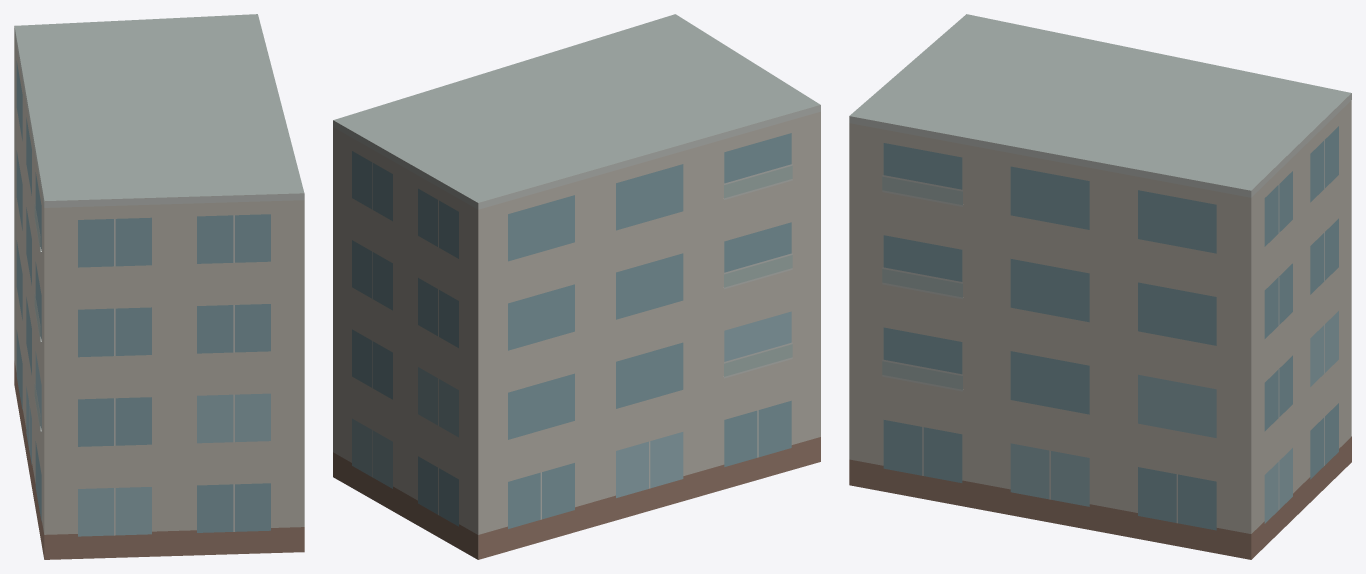
File: survey-upis-32811156.glb
3 views of the same model, side by side, from view 1: azimuth 30°, elevation 25°; view 2: azimuth 150°, elevation 25°; view 3: azimuth 270°, elevation 25° (orthographic). The views are drawn at different scales.
Visible parts, largest first — view 1: survey-upis-32811156.tmp; view 2: survey-upis-32811156.tmp; view 3: survey-upis-32811156.tmp.
Part boxes in pixels (x1,y1,x2,y2): survey-upis-32811156.tmp: [14, 14, 304, 559]; survey-upis-32811156.tmp: [333, 14, 820, 559]; survey-upis-32811156.tmp: [849, 14, 1351, 559].
Size of the model in its own units: 13.15 by 12.8 by 15.8.
